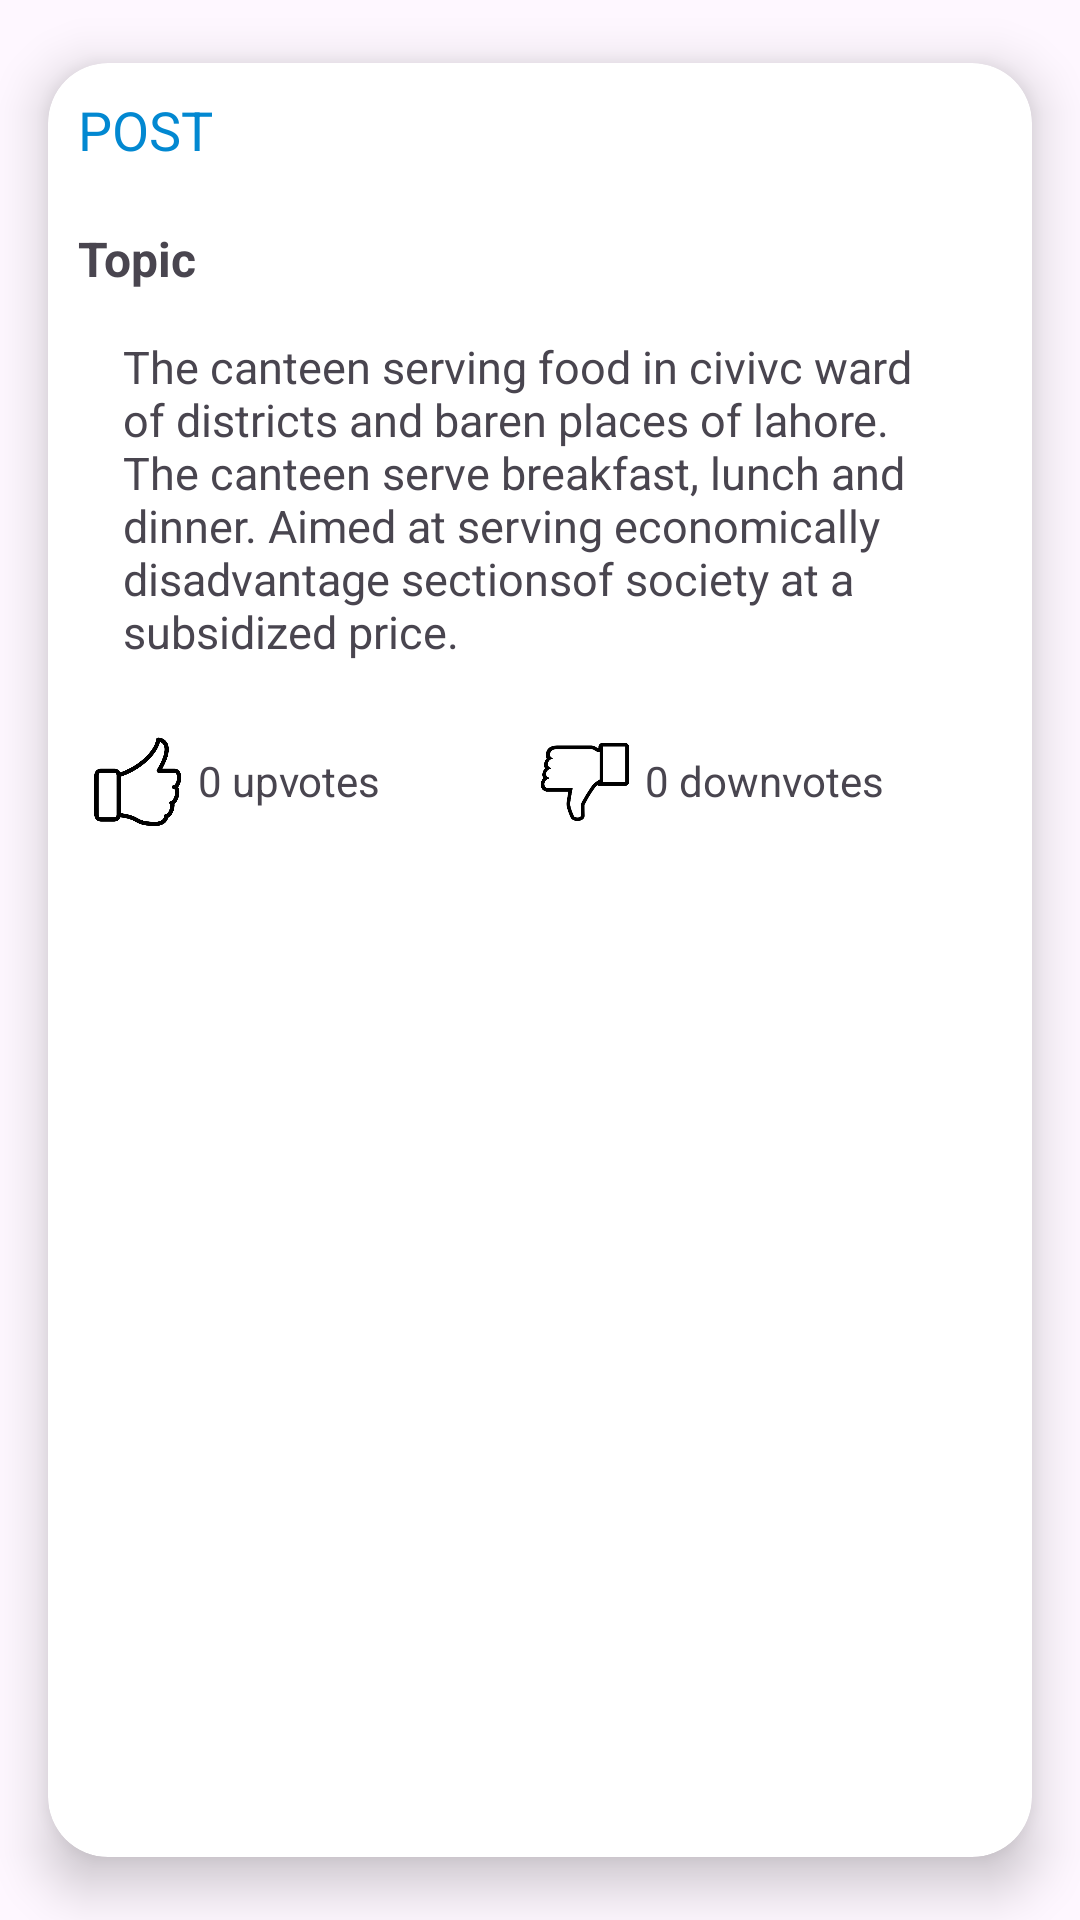

Icons on this 1080px×1920px Android screen, each with its box as (x1, y1, x2, y2):
thumbs down: (541, 743, 629, 821)
thumbs up: (94, 737, 181, 826)
